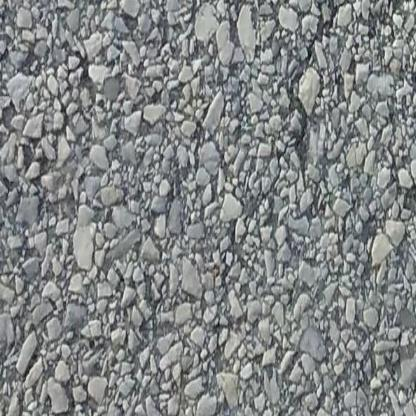Cracks: (296, 0, 416, 85)
